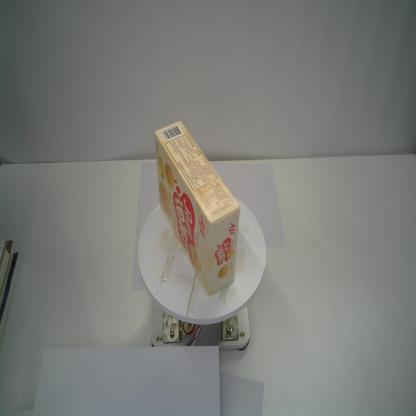Dessert: (154, 120, 242, 296)
